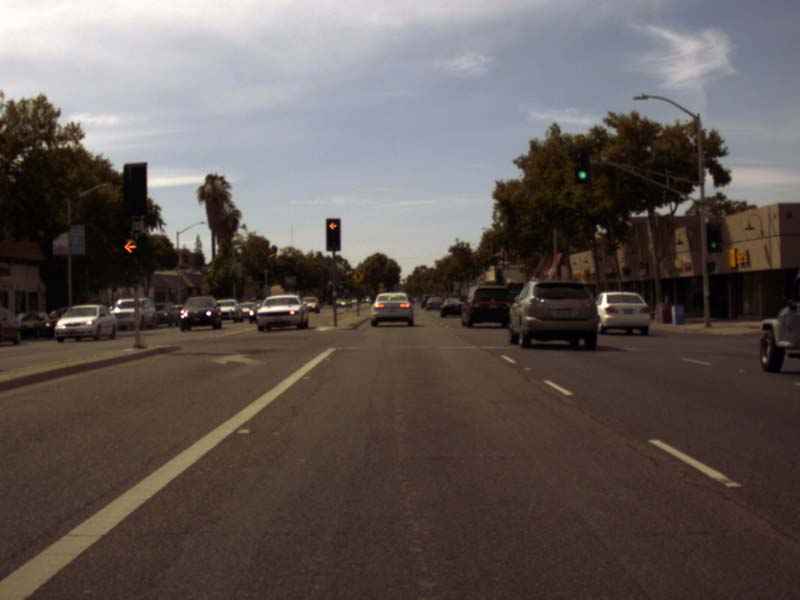Green: (576, 149, 587, 183), (708, 225, 718, 252)
Red: (326, 219, 338, 249), (123, 240, 137, 254)
